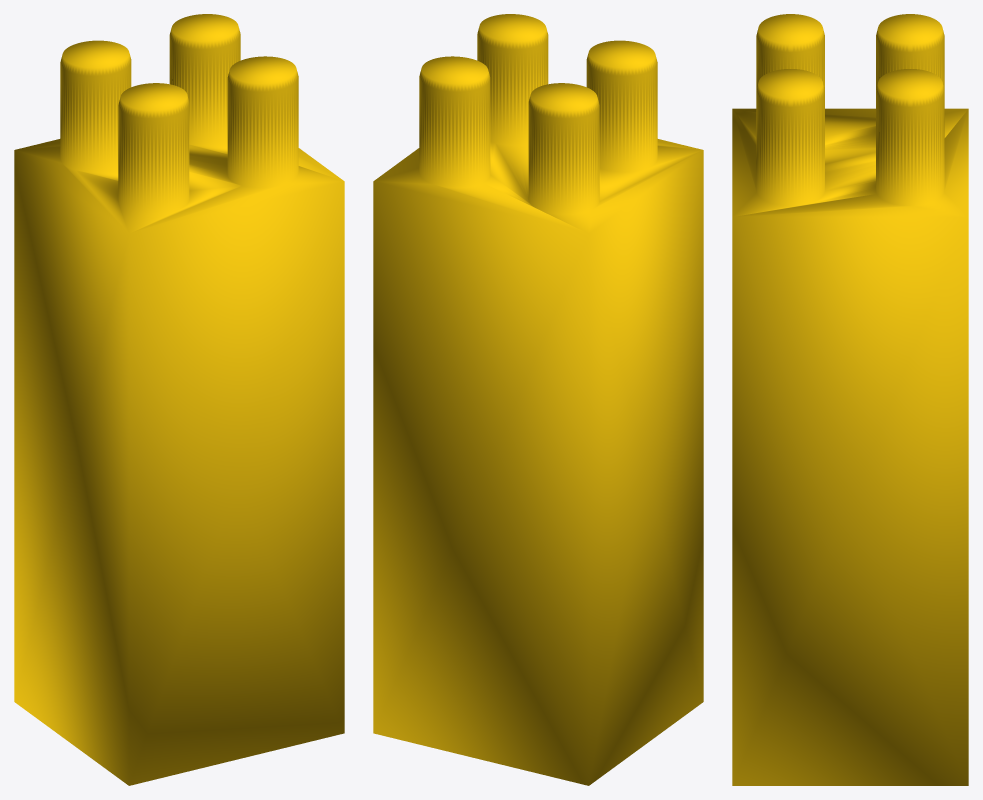
Rendered from TaskBlockYellow.fbx.
3 views of the same model, side by side, from view 1: azimuth 30°, elevation 25°; view 2: azimuth 150°, elevation 25°; view 3: azimuth 270°, elevation 25° (orthographic). The views are drawn at different scales.
Visible parts, largest first — view 1: TaskBlockYellow; view 2: TaskBlockYellow; view 3: TaskBlockYellow.
Part boxes in pixels (x1=…): TaskBlockYellow: x1=14, y1=14, x2=344, y2=785; TaskBlockYellow: x1=373, y1=14, x2=703, y2=785; TaskBlockYellow: x1=732, y1=14, x2=968, y2=785.
Bounding box in the file's own units: 1.98 × 5.76 × 1.83.
